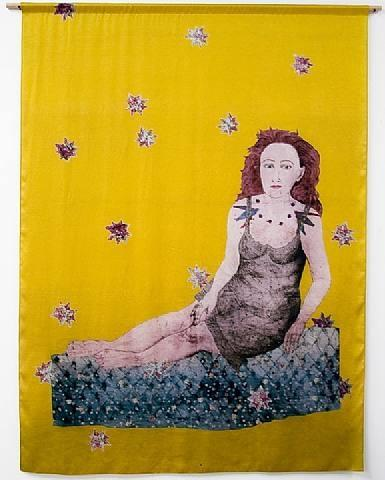person: (66, 131, 336, 372)
